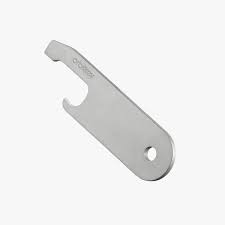bottleopener: (43, 39, 178, 182)
